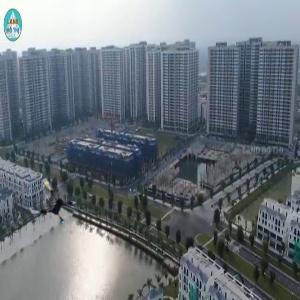drone: (28, 178, 77, 227)
